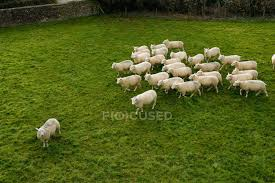sheep: (33, 117, 60, 144), (230, 76, 265, 96), (132, 89, 158, 111), (155, 76, 182, 97), (232, 59, 264, 76), (174, 81, 201, 100), (193, 74, 219, 93), (197, 69, 220, 89), (233, 67, 259, 82), (116, 76, 140, 92), (110, 59, 133, 75), (197, 60, 220, 76), (129, 62, 151, 77), (218, 52, 240, 67), (202, 47, 223, 62), (145, 70, 164, 86), (163, 60, 187, 72), (144, 45, 166, 57), (169, 49, 187, 62), (163, 40, 183, 51), (132, 50, 149, 62), (165, 57, 182, 66), (135, 44, 148, 52)
